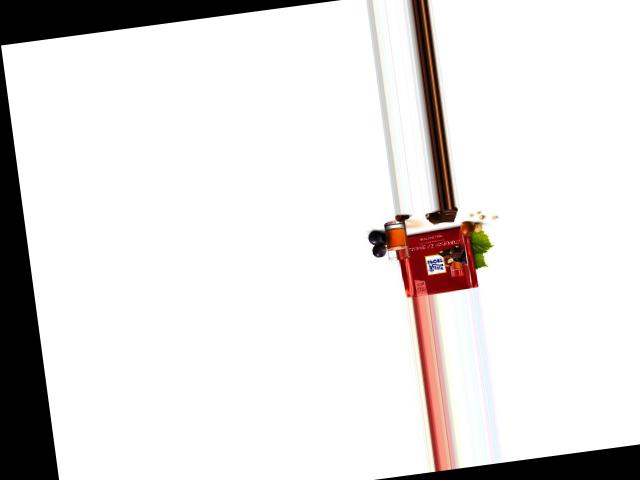chocolate: (397, 225, 480, 296)
